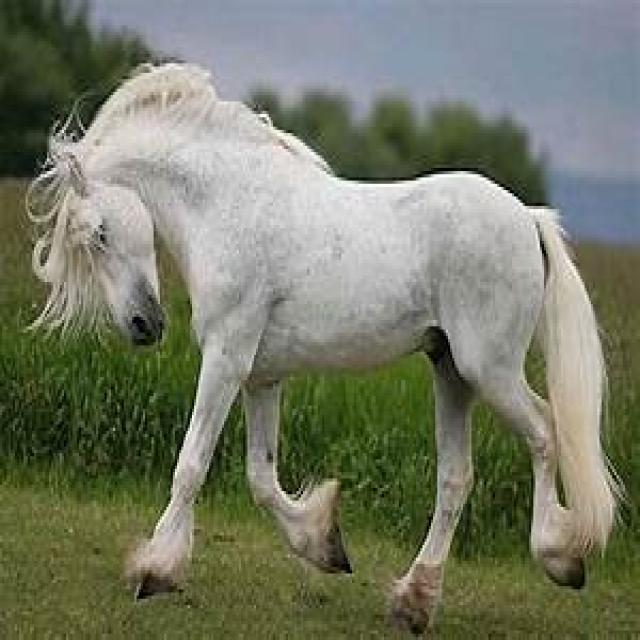horse: (23, 63, 621, 637)
